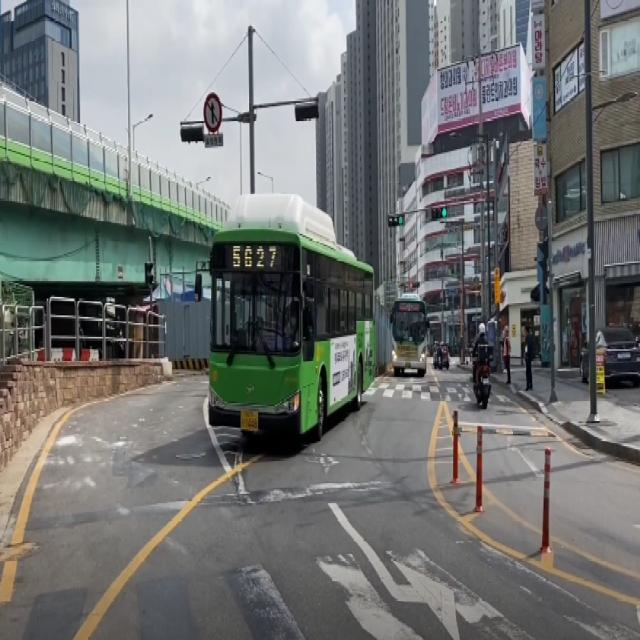bus-number: (232, 243, 277, 271)
